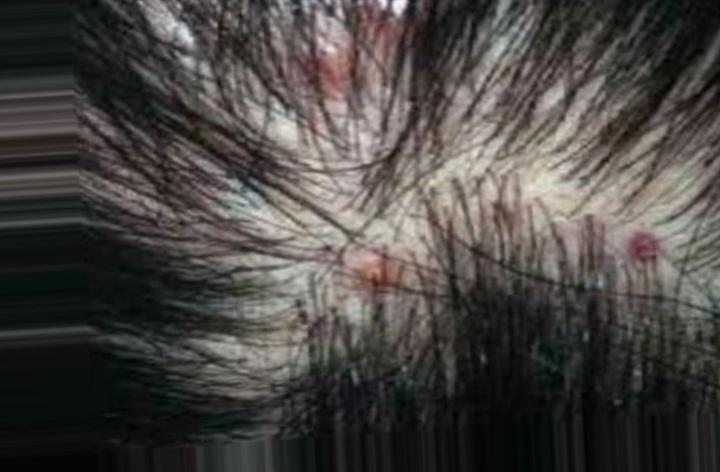Folliculitis: (273, 14, 676, 325)
